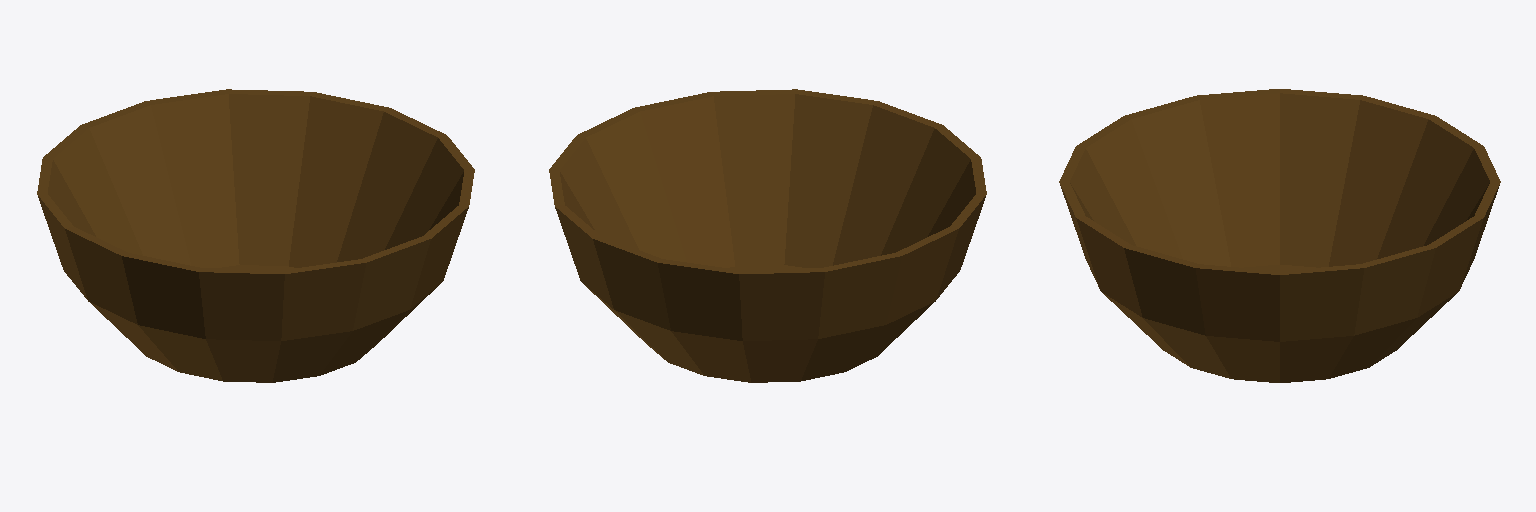
The model's file is bowl.obj.
3 views of the same model, side by side, from view 1: azimuth 30°, elevation 25°; view 2: azimuth 150°, elevation 25°; view 3: azimuth 270°, elevation 25° (orthographic).
Visible parts, largest first — view 1: DinnerBowl; view 2: DinnerBowl; view 3: DinnerBowl.
Boxes of the visible parts, box(x1,y1,x2,y2) form: DinnerBowl: box(37, 89, 474, 382); DinnerBowl: box(549, 89, 986, 382); DinnerBowl: box(1059, 89, 1500, 382).
Size of the model in its own units: 1.27 by 0.4703 by 1.27.